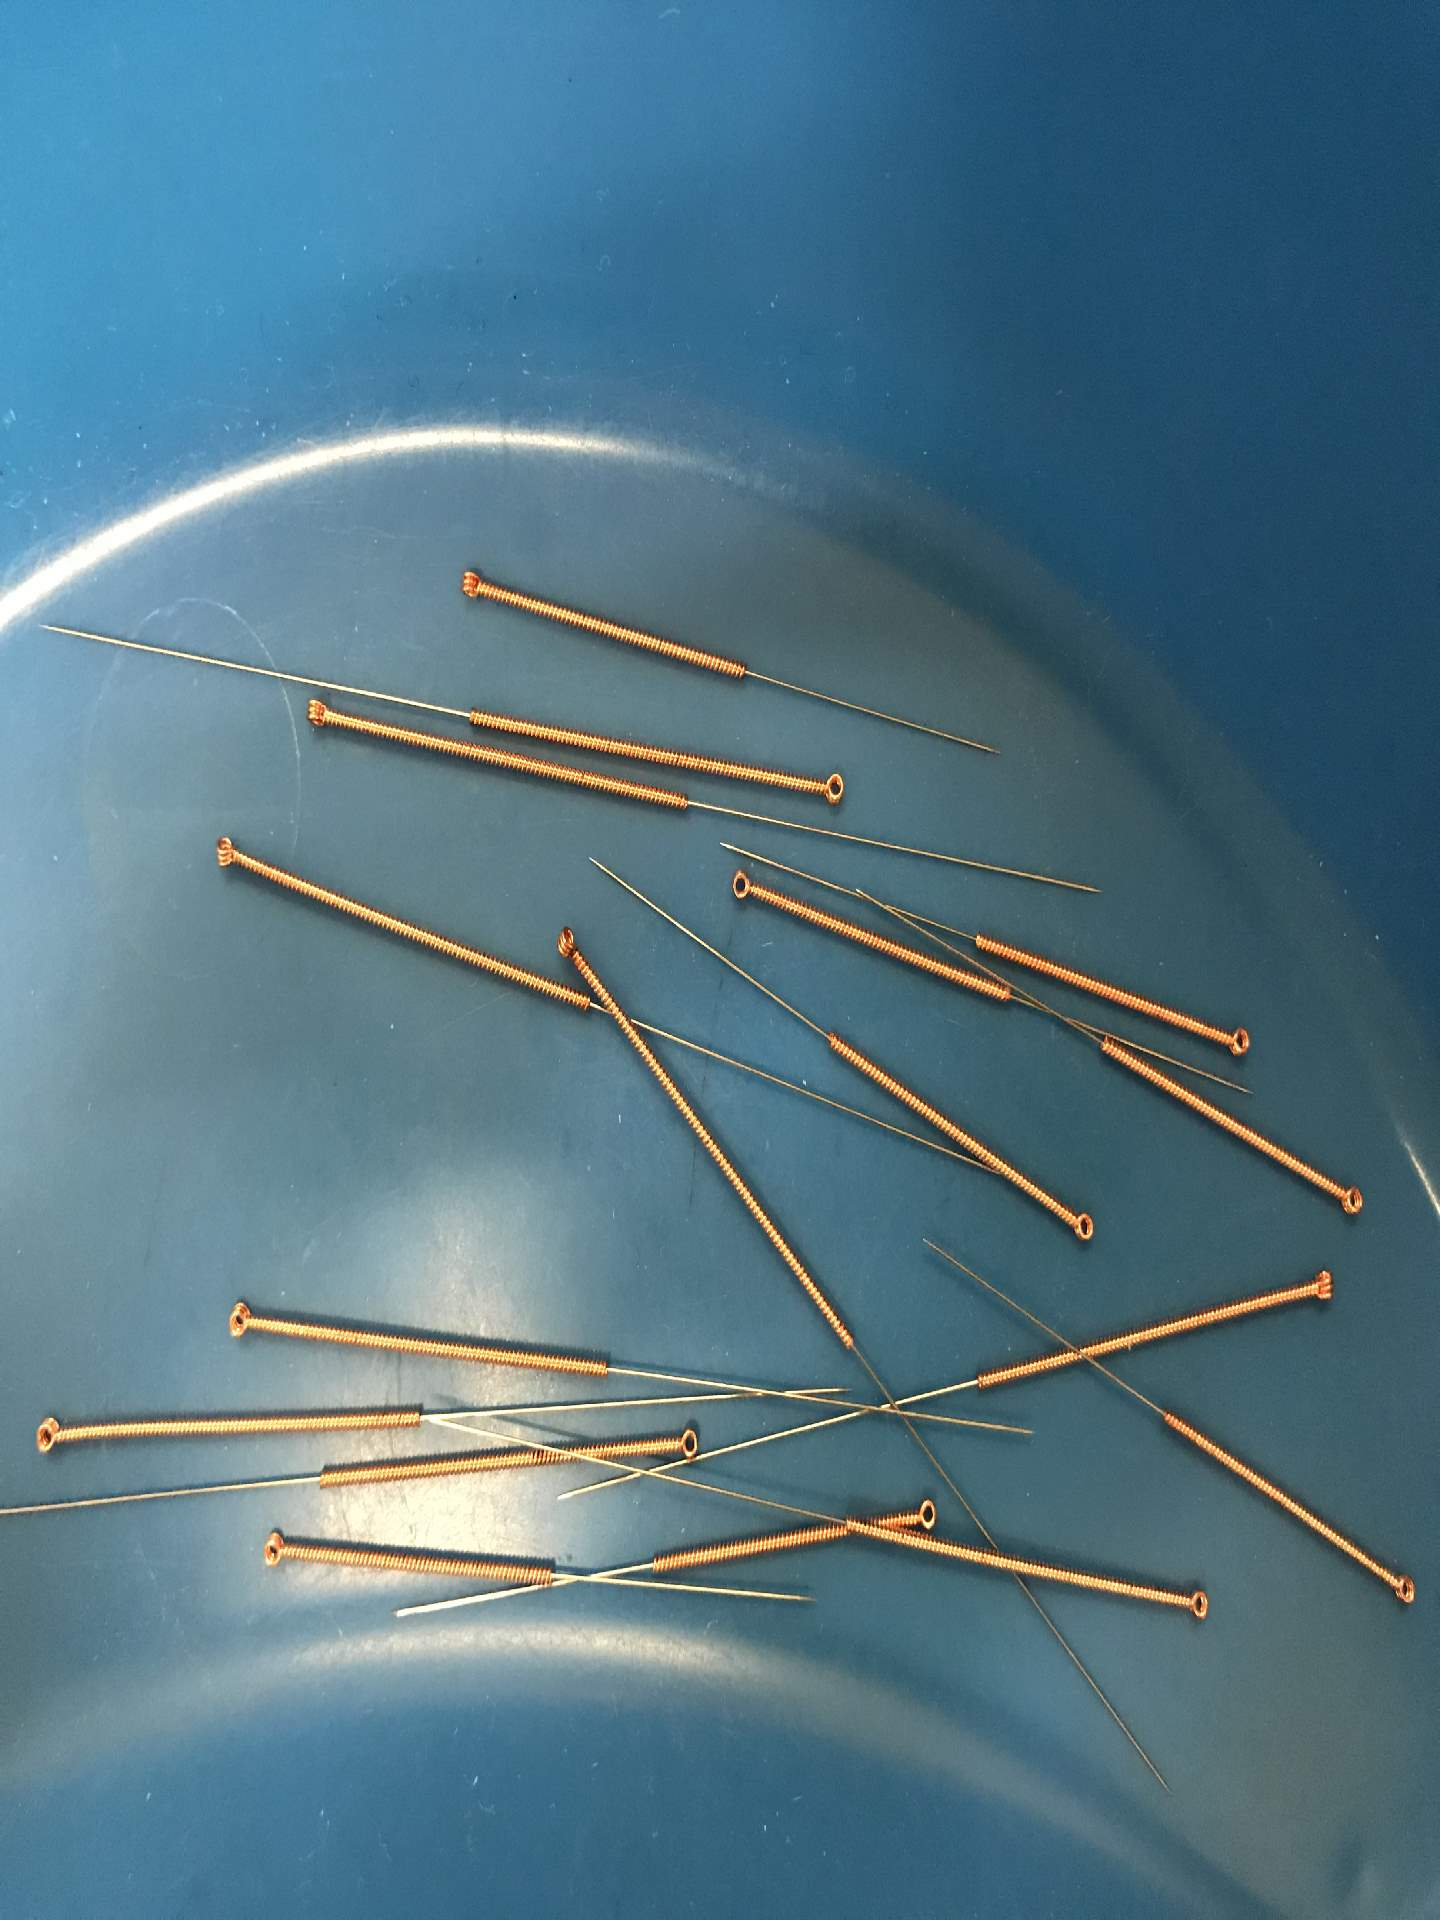needle: (209, 1290, 269, 1355), (17, 1406, 80, 1466), (1289, 1256, 1352, 1315), (198, 822, 259, 881), (442, 553, 498, 615), (287, 689, 351, 744), (1050, 1200, 1113, 1255), (712, 859, 771, 915), (244, 1524, 304, 1578), (1373, 1557, 1426, 1619), (1168, 1578, 1227, 1633), (545, 913, 594, 975), (1324, 1172, 1376, 1228), (656, 1418, 712, 1469), (802, 763, 859, 813), (1210, 1017, 1263, 1067), (906, 1492, 945, 1534)
